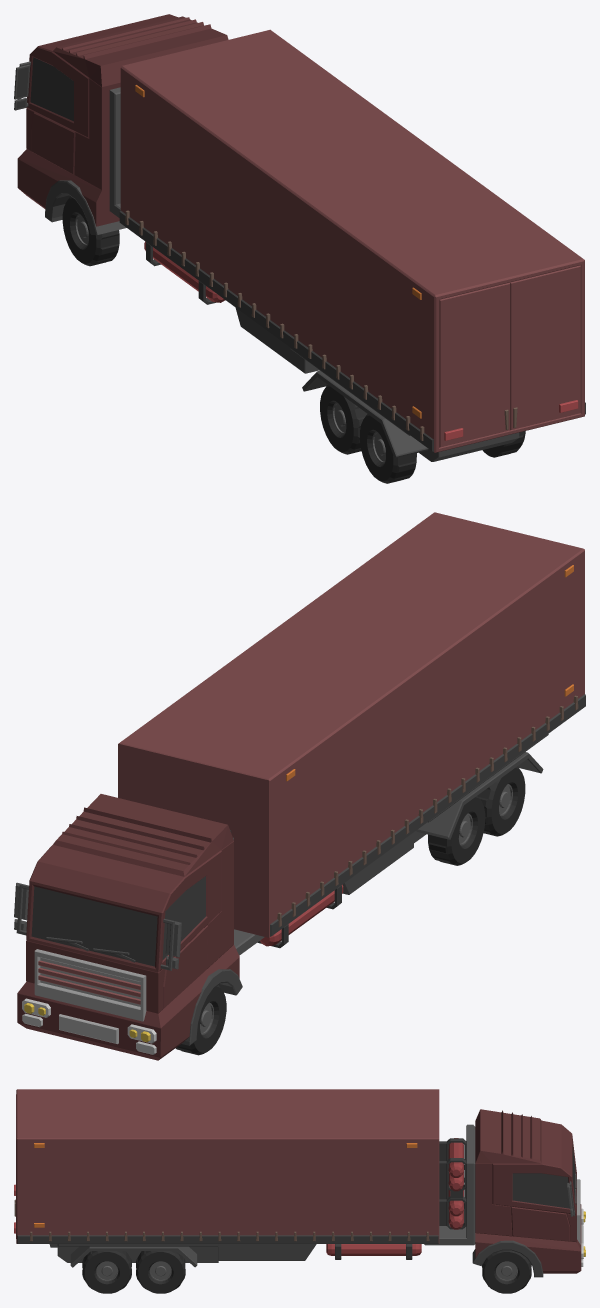
3 renders of one model, top to bottom at view 1: azimuth 30°, elevation 25°; view 2: azimuth 150°, elevation 25°; view 3: azimuth 270°, elevation 25°, orthographic. The views are drawn at different scales.
Visible parts, largest first — view 1: truck_a01_001, Box2078, Cylinder164, Cylinder166, Box2072, Line369, OilTank015; view 2: truck_a01_001, Box2078, Box2082, Cylinder164, Cylinder166, Line370, Box2072, OilTank015; view 3: truck_a01_001, Box2078, Cylinder166, Cylinder164, OilTank015, Line369, Rectangle054, Box2072, Box2082.
Boxes of the visible parts, left/top/right/bottom form: truck_a01_001: left=16, top=29, right=585, bottom=463; Box2078: left=17, top=14, right=228, bottom=226; Cylinder164: left=62, top=196, right=525, bottom=483; Cylinder166: left=45, top=180, right=519, bottom=461; Box2072: left=125, top=210, right=517, bottom=440; Line369: left=109, top=87, right=120, bottom=217; OilTank015: left=144, top=241, right=225, bottom=302; truck_a01_001: left=31, top=512, right=585, bottom=1034; Box2078: left=17, top=794, right=239, bottom=1060; Box2082: left=22, top=949, right=156, bottom=1054; Cylinder164: left=175, top=766, right=525, bottom=1055; Cylinder166: left=181, top=734, right=548, bottom=1045; Line370: left=14, top=882, right=181, bottom=970; Box2072: left=277, top=695, right=578, bottom=927; OilTank015: left=260, top=884, right=343, bottom=946; truck_a01_001: left=16, top=1089, right=575, bottom=1281; Box2078: left=475, top=1109, right=581, bottom=1273; Cylinder166: left=49, top=1240, right=543, bottom=1277; Cylinder164: left=82, top=1250, right=531, bottom=1293; OilTank015: left=326, top=1138, right=463, bottom=1255; Line369: left=424, top=1124, right=475, bottom=1245; Rectangle054: left=335, top=1138, right=466, bottom=1259; Box2072: left=14, top=1199, right=429, bottom=1241; Box2082: left=577, top=1179, right=585, bottom=1266.
Bounding box in the file's own units: 3.29 × 4.55 × 14.76.
Materials: 1 (1 with a texture image).
